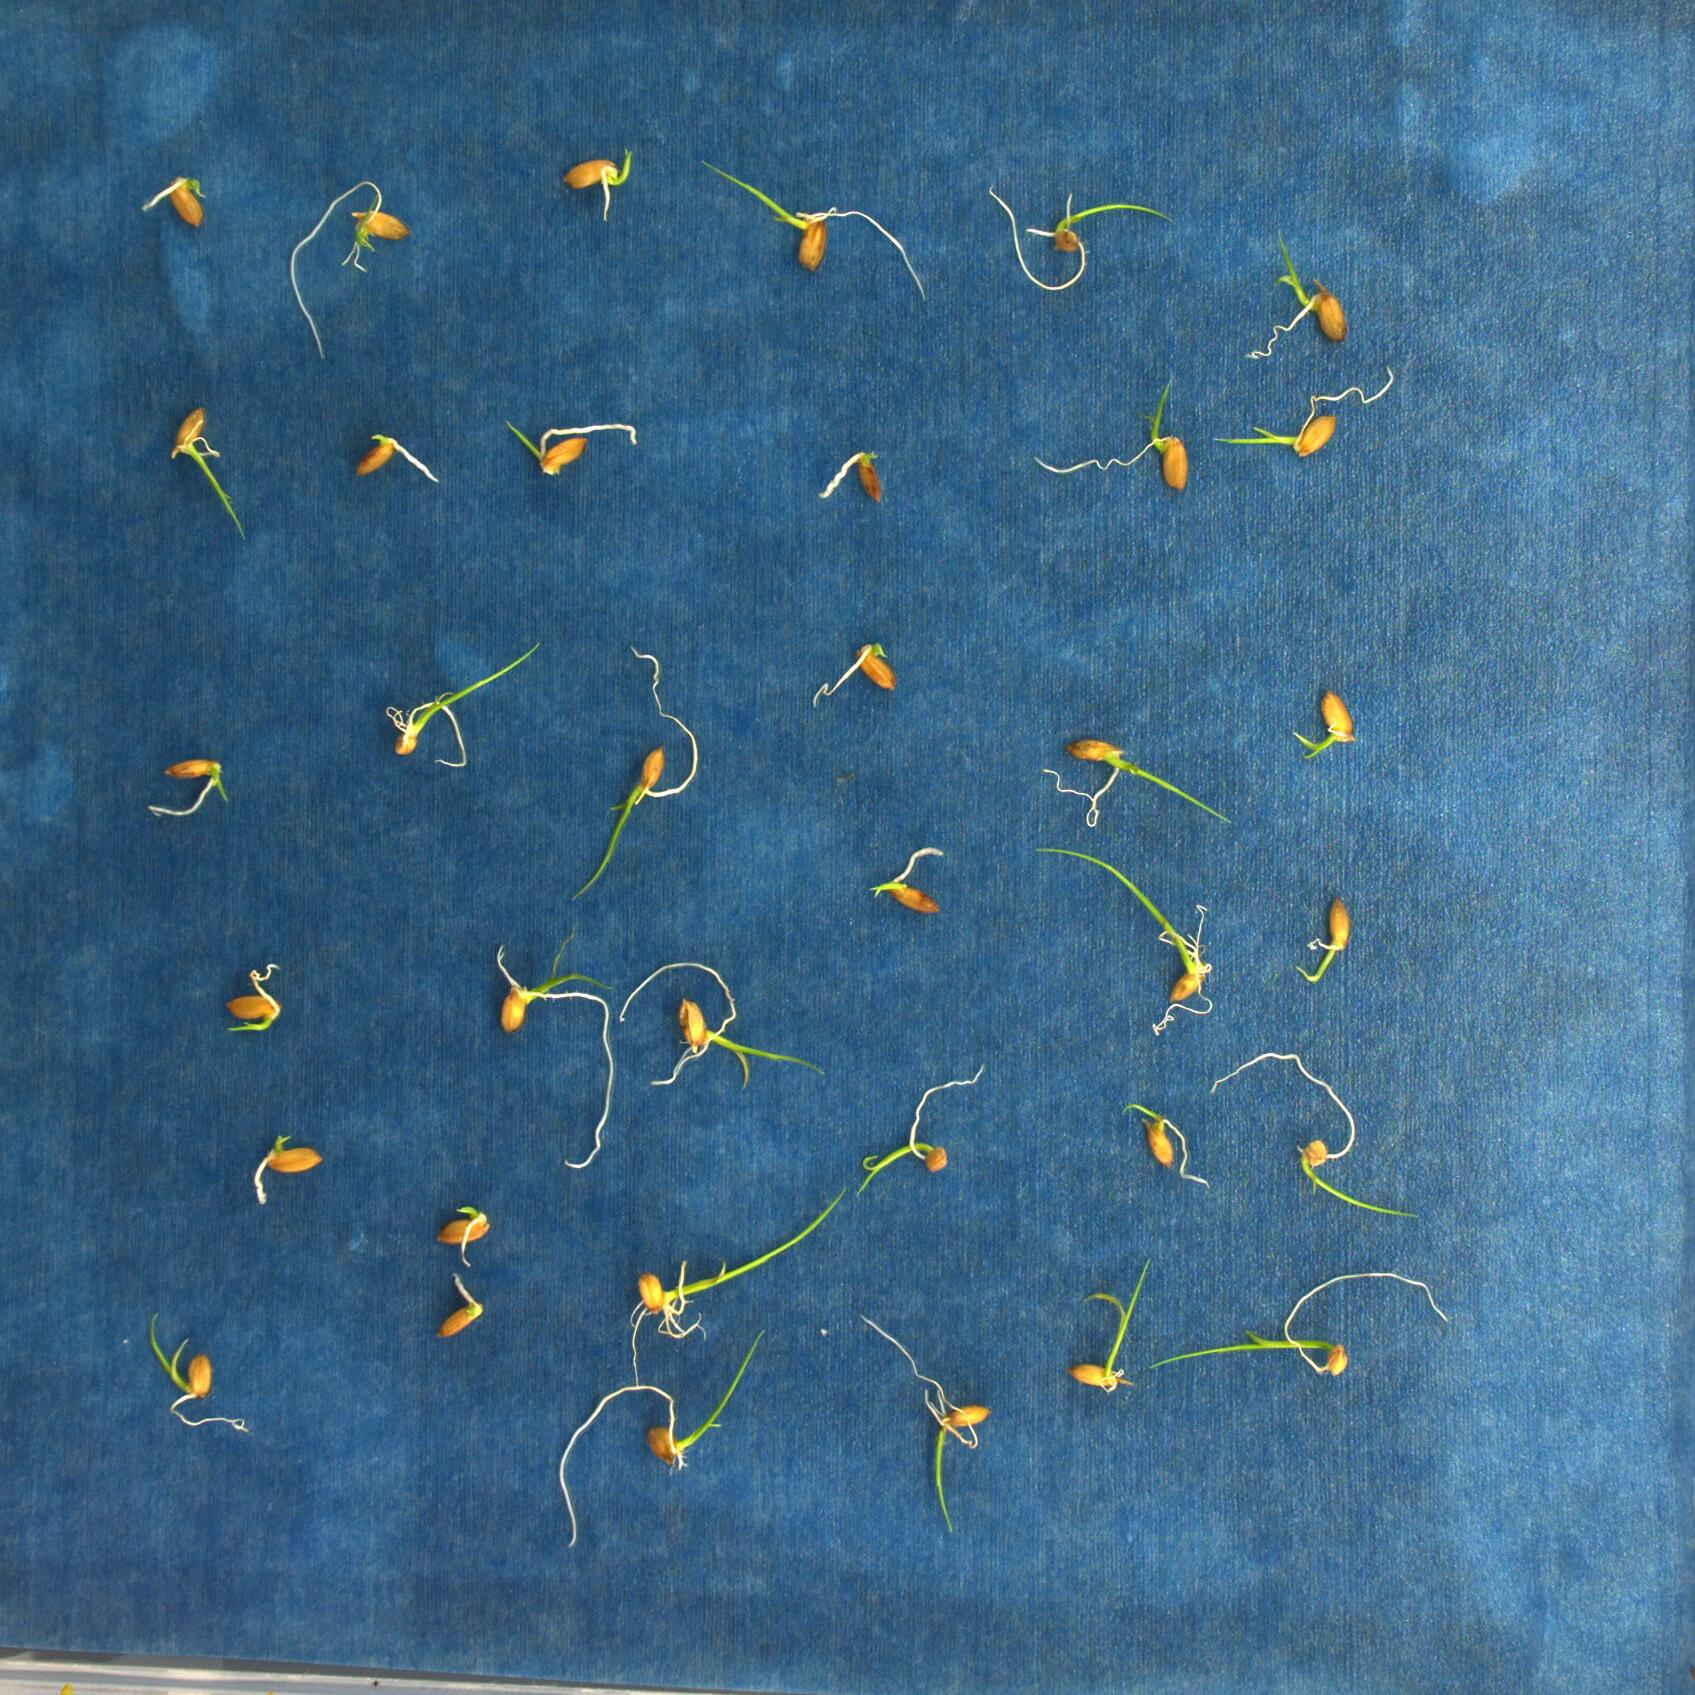not sprout: (810, 640, 896, 706), (255, 1133, 324, 1205), (352, 432, 439, 487), (816, 449, 889, 504), (428, 1273, 484, 1343)
sprout: (632, 1187, 847, 1391), (560, 1333, 765, 1546), (1211, 1052, 1425, 1223), (700, 155, 930, 306), (1035, 847, 1212, 1035), (570, 647, 698, 903), (1149, 1273, 1445, 1375), (494, 924, 608, 1170), (860, 1315, 987, 1534), (622, 959, 827, 1094), (289, 180, 410, 360), (981, 185, 1177, 292), (385, 644, 540, 770), (1034, 373, 1191, 494), (855, 1063, 986, 1201), (1045, 736, 1232, 827), (1211, 368, 1397, 459), (1243, 228, 1344, 360), (146, 1312, 251, 1433), (1069, 1256, 1150, 1395), (168, 407, 250, 542), (501, 414, 640, 478), (1119, 1104, 1214, 1195), (865, 840, 950, 914), (559, 144, 632, 220), (1295, 900, 1352, 986), (147, 757, 231, 813), (1288, 692, 1354, 761), (224, 962, 286, 1031), (438, 1200, 490, 1267), (140, 179, 210, 227)
